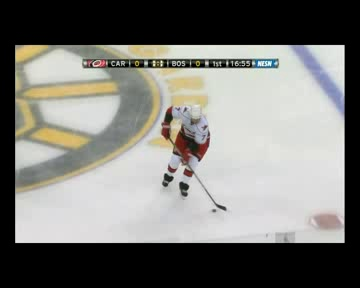normal: (152, 95, 224, 204)
